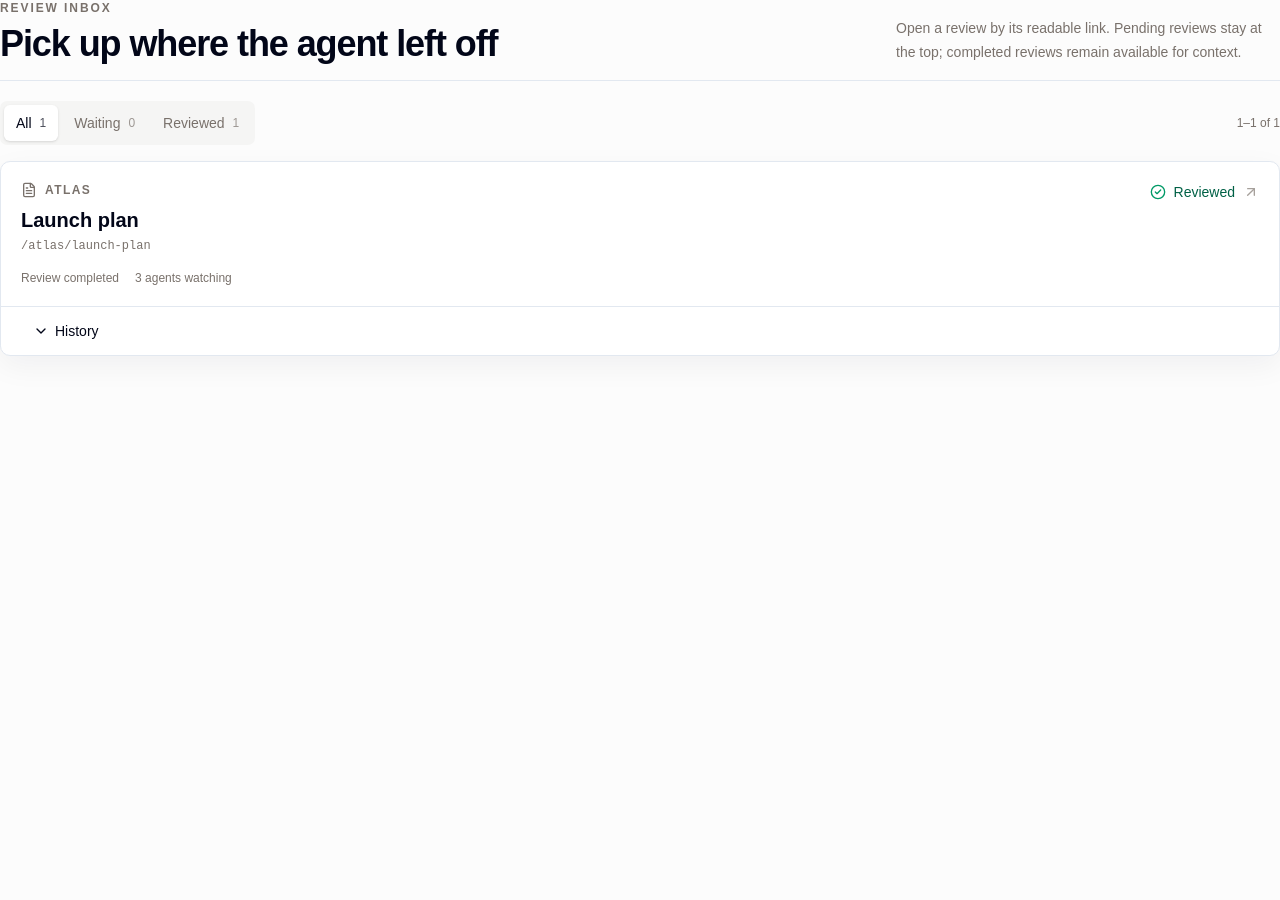
Test: ReviewHome review history › restores with the inspected current version, disables duplicate writes, and refreshes history
This screenshot has width=1280, height=900.
Click the button "History" at (66, 331), box [21, 315, 111, 347]
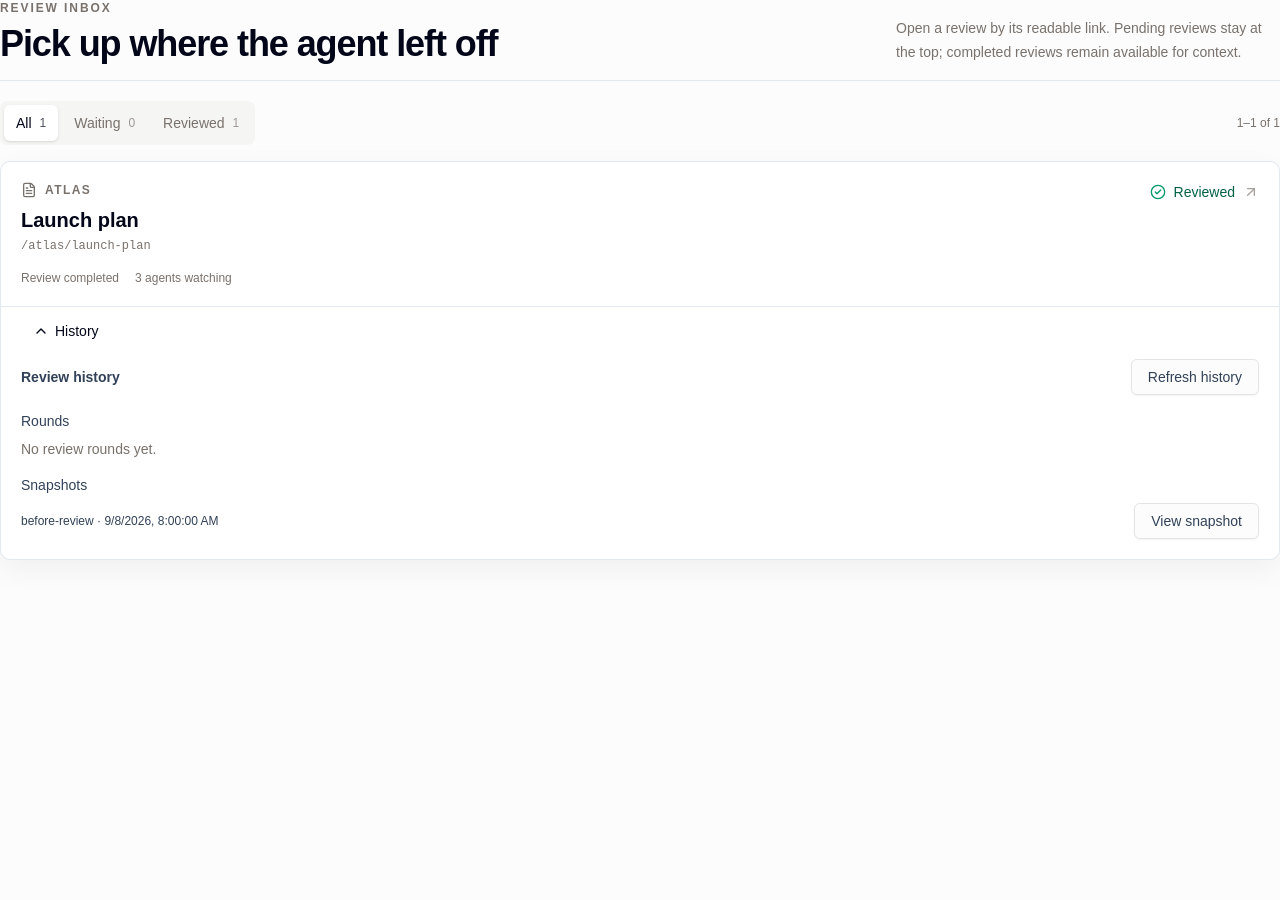
Click the button "View snapshot" at (1197, 521), box [1134, 503, 1259, 539]
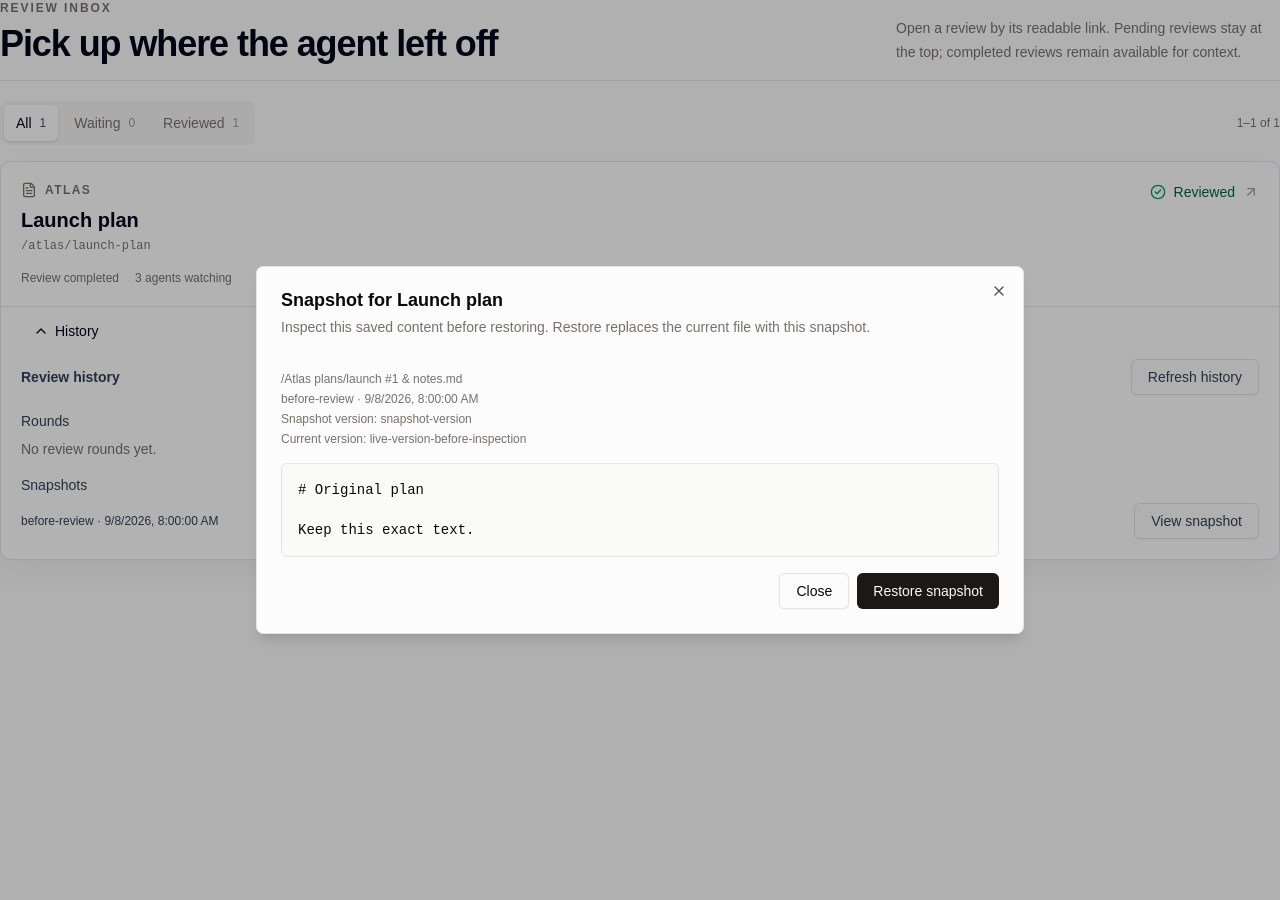
Now the dialog is shown, box [256, 266, 1024, 634]
Click the button "Restore snapshot" at (928, 591), box [857, 573, 999, 609]
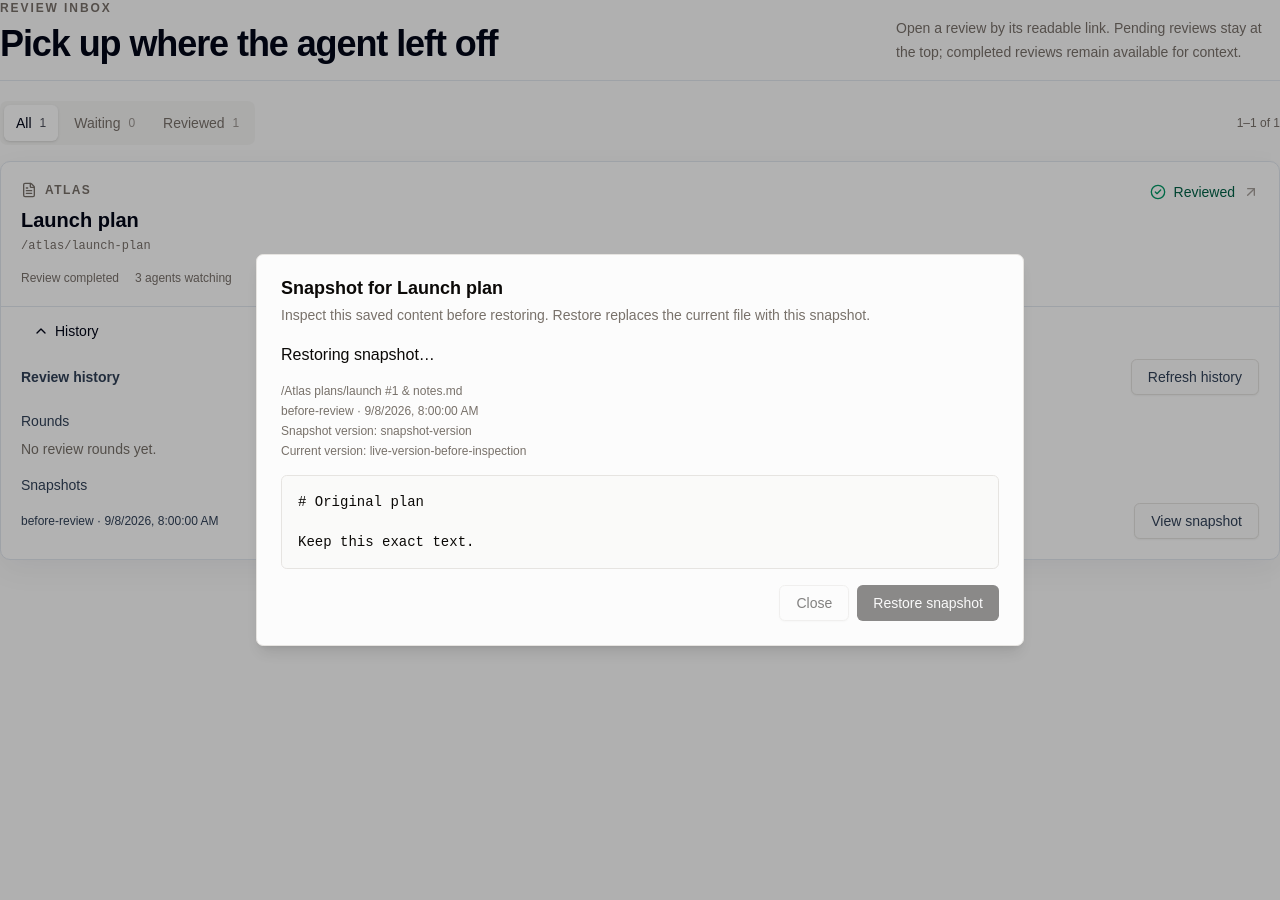
Now the dialog is shown, box [256, 254, 1024, 646]
Now the button "Restore snapshot" is disabled
Click the button "Restore snapshot" at (928, 603), box [857, 585, 999, 621]
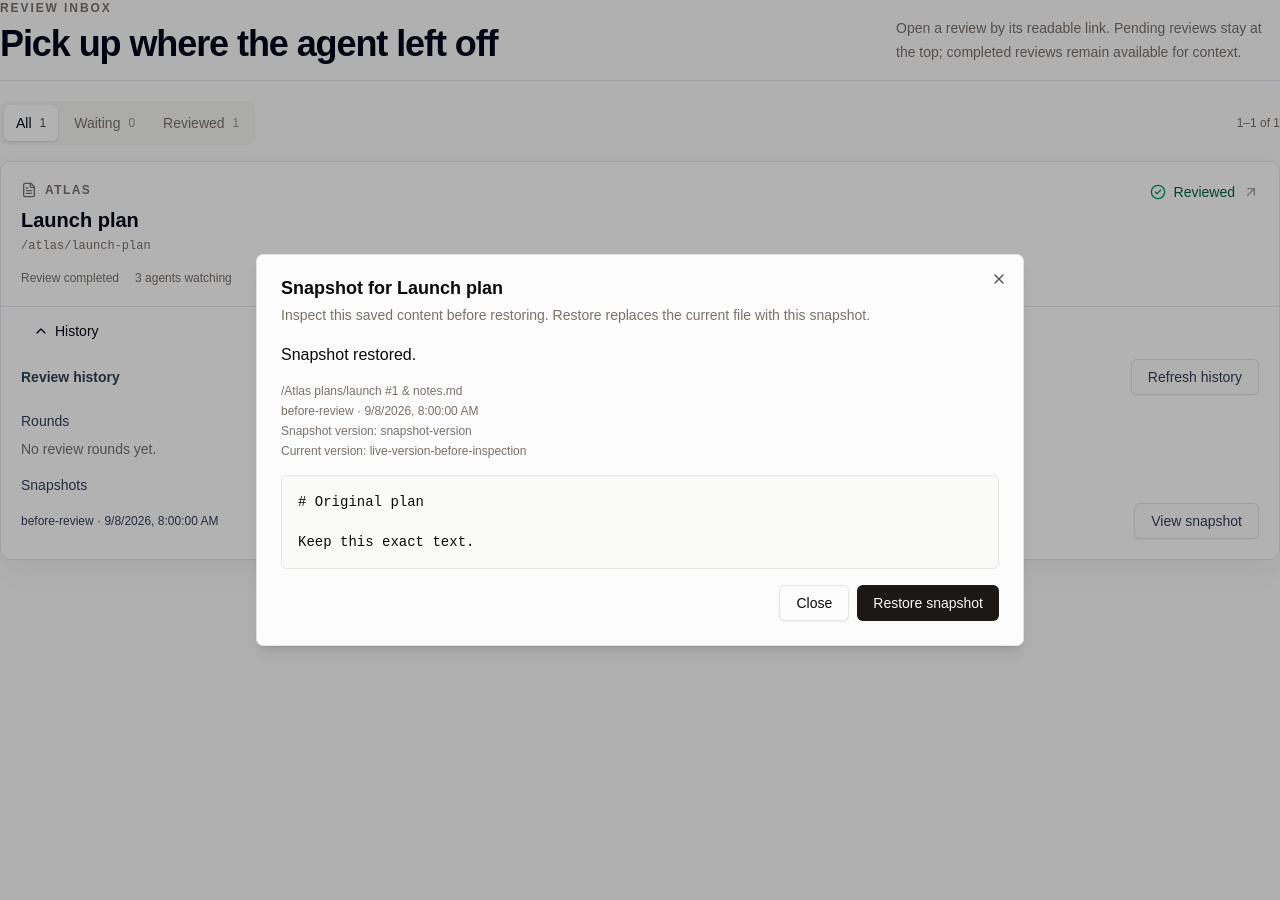
Now the message "Snapshot restored." is shown, box [281, 346, 416, 363]
